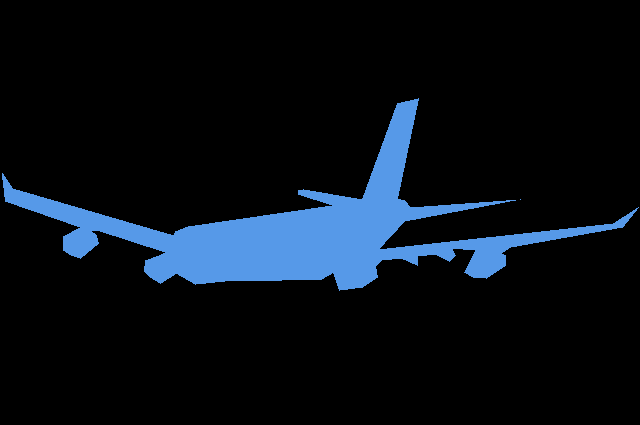Airplane: (2, 98, 638, 290)
